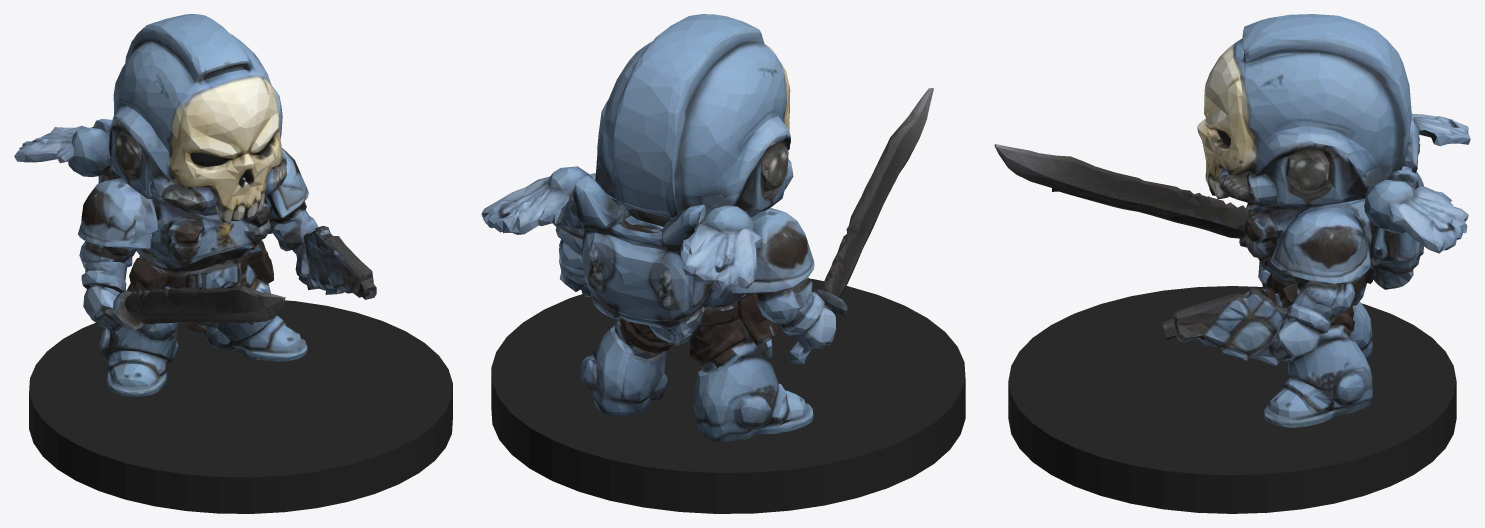
File: sw-reiver.glb
3 views of the same model, side by side, from view 1: azimuth 30°, elevation 25°; view 2: azimuth 150°, elevation 25°; view 3: azimuth 270°, elevation 25° (orthographic). The views are drawn at different scales.
Visible parts, largest first — view 1: figure, base; view 2: figure, base; view 3: figure, base.
Part boxes in pixels (bbox=[...]): figure: bbox=[14, 14, 376, 397]; base: bbox=[29, 300, 452, 513]; figure: bbox=[481, 14, 933, 441]; base: bbox=[491, 278, 965, 513]; figure: bbox=[994, 14, 1470, 427]; base: bbox=[1008, 286, 1456, 513].
Bounding box in the file's own units: 1.26 × 1.22 × 1.34.
Materials: 2 (1 with a texture image).
